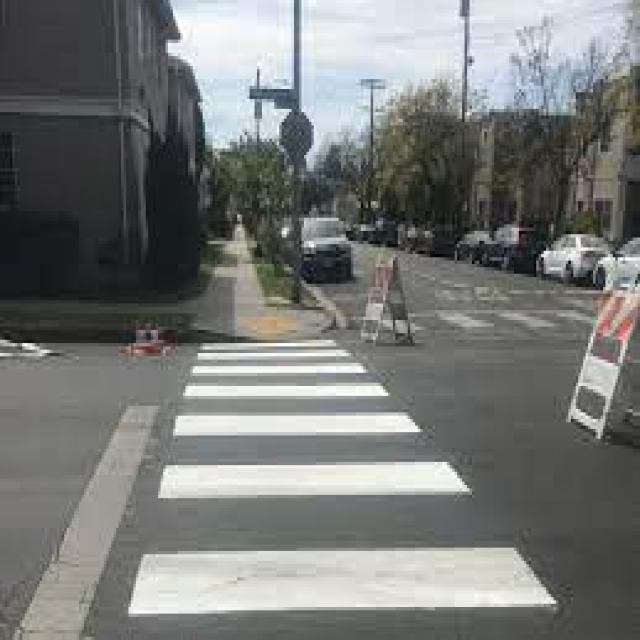Crosswalk: (124, 336, 563, 640)
